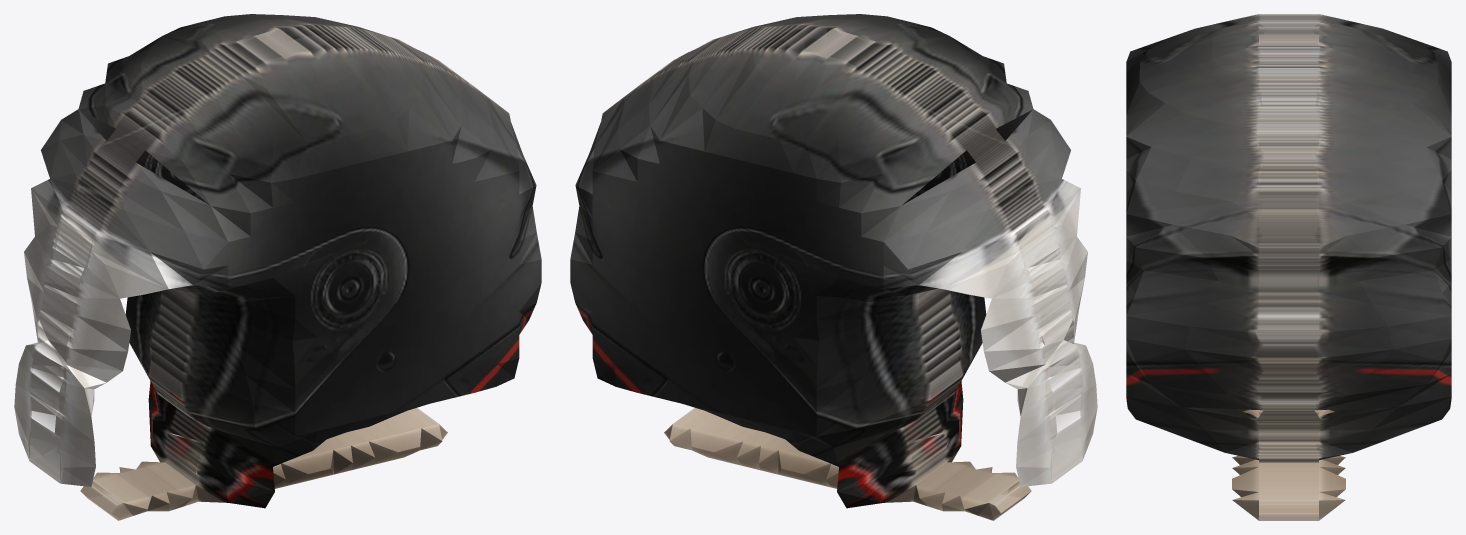
Rendered from randg-circuit-open-face-helmet-071.glb.
3 views of the same model, side by side, from view 1: azimuth 30°, elevation 25°; view 2: azimuth 150°, elevation 25°; view 3: azimuth 270°, elevation 25° (orthographic). The views are drawn at different scales.
Parts seen in each view (by area): view 1: world; view 2: world; view 3: world.
Part boxes in pixels (<box>): world: <box>14,14,541,520</box>; world: <box>570,14,1097,520</box>; world: <box>1126,14,1451,520</box>.
Bounding box in the file's own units: 1 × 0.9076 × 0.64.
Materials: 1 (1 with a texture image).
